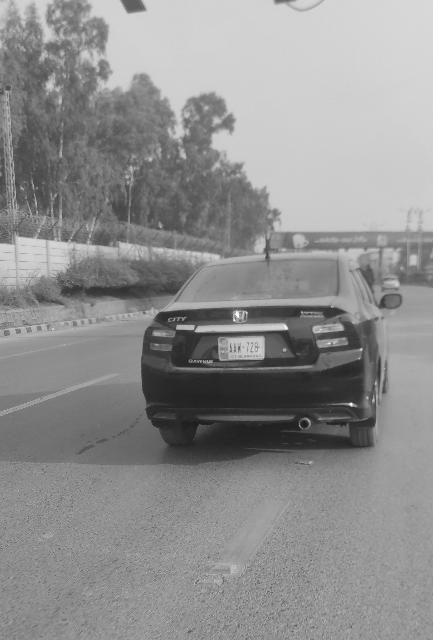Number: (230, 342, 260, 356)
